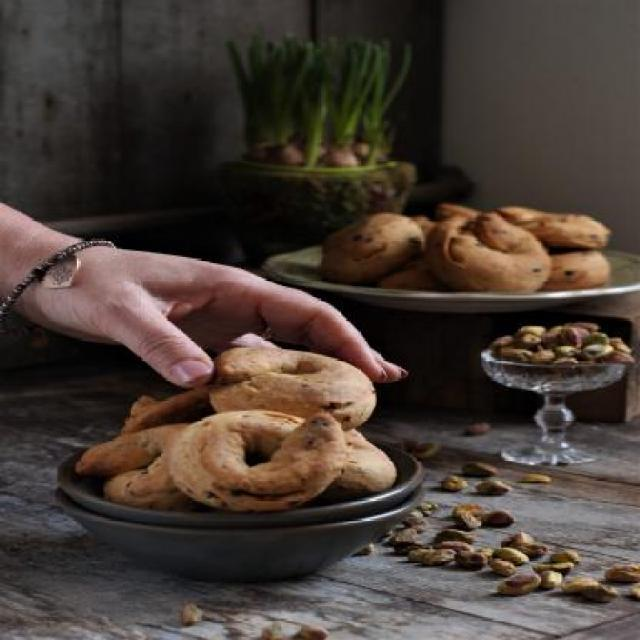Taralli: (100, 356, 388, 515), (327, 202, 613, 286)
